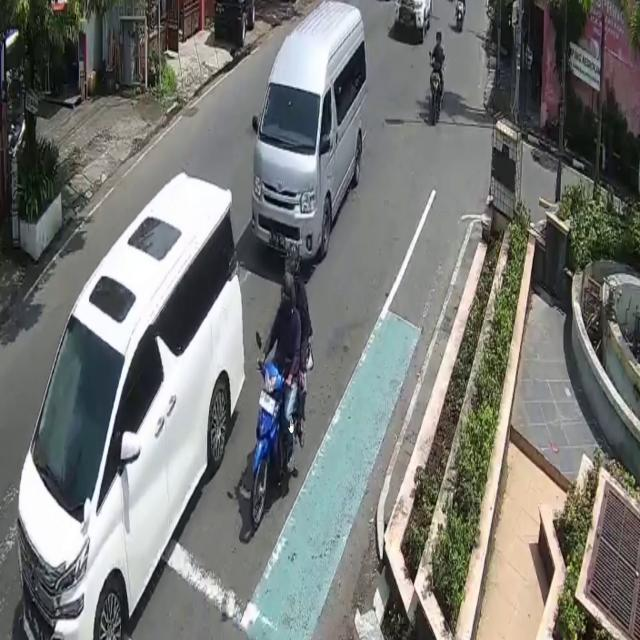bus: (250, 361, 294, 528), (431, 58, 442, 126)
car: (252, 0, 365, 261)
motorcycle: (18, 172, 244, 640)
